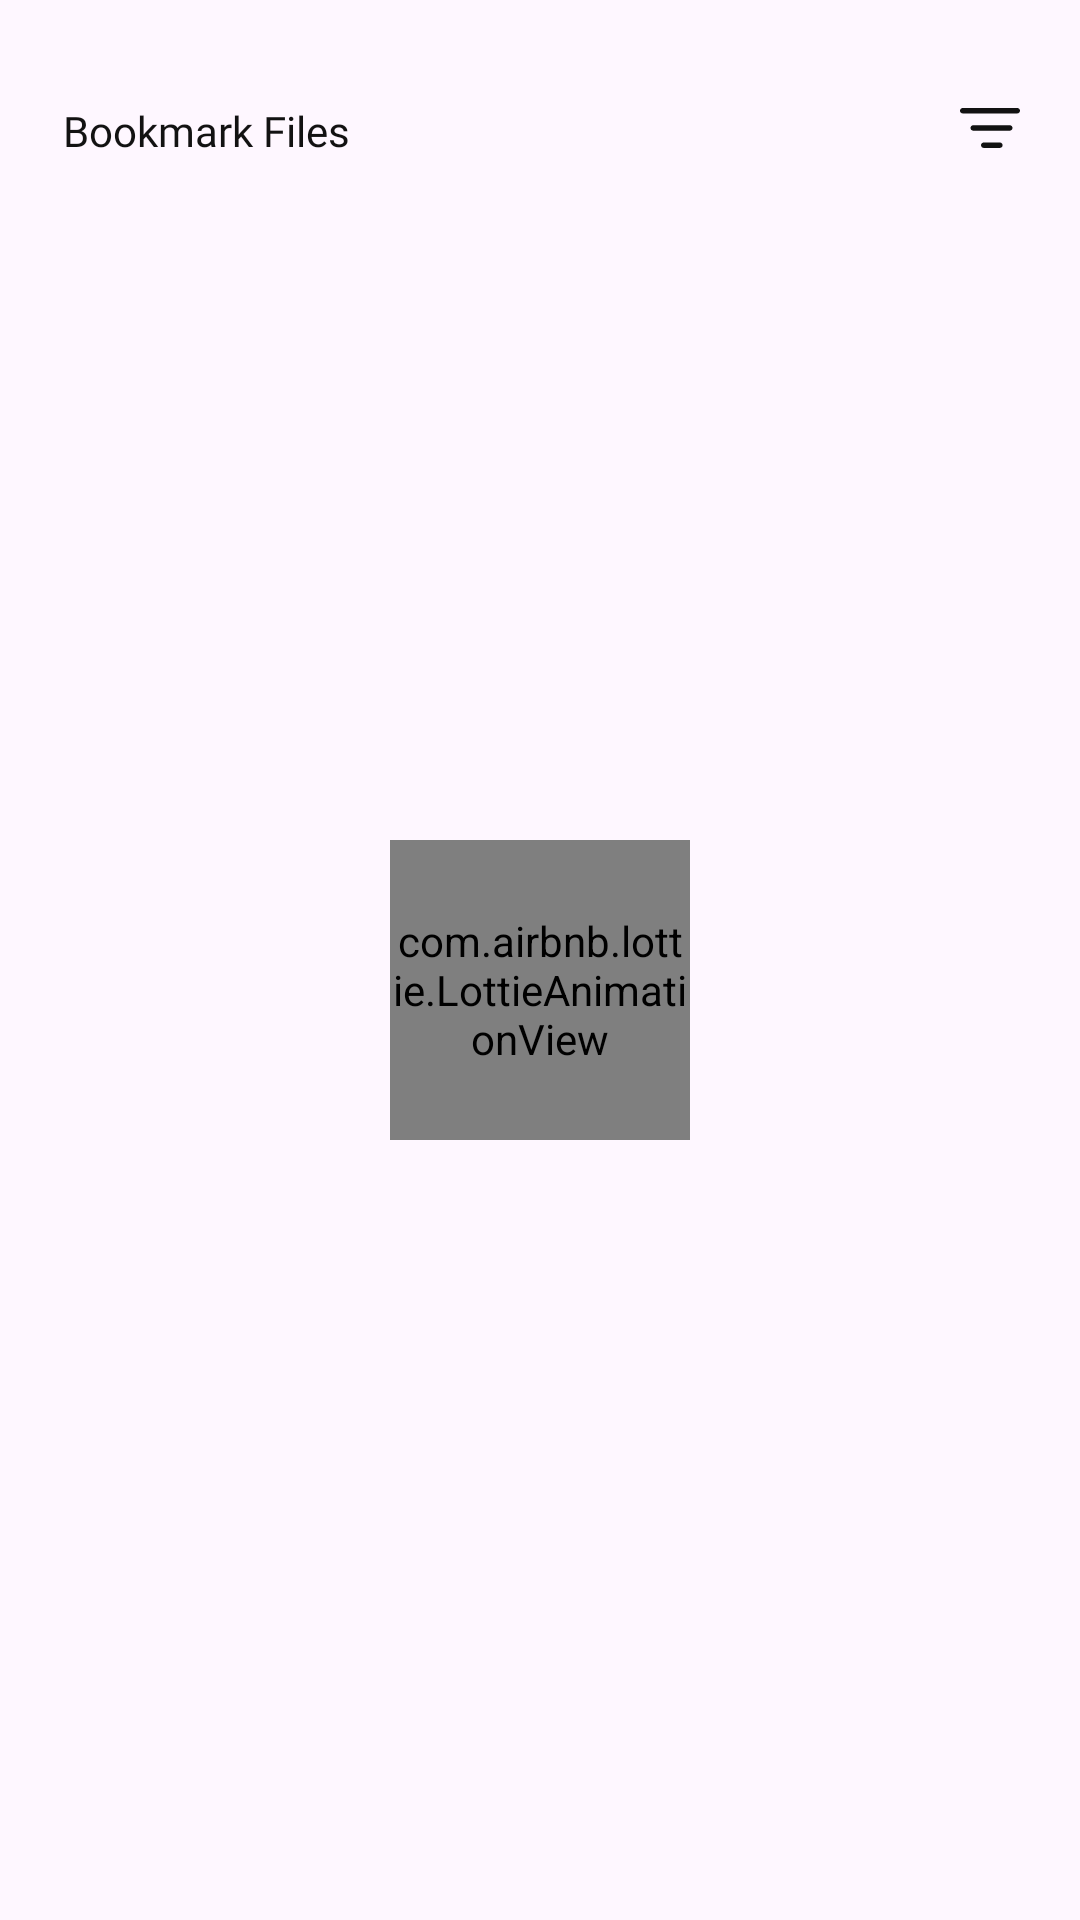

Named icons in this screenshot (1080px x 1920px) and their centers, (x=x, y=y):
sort: (x=990, y=128)
